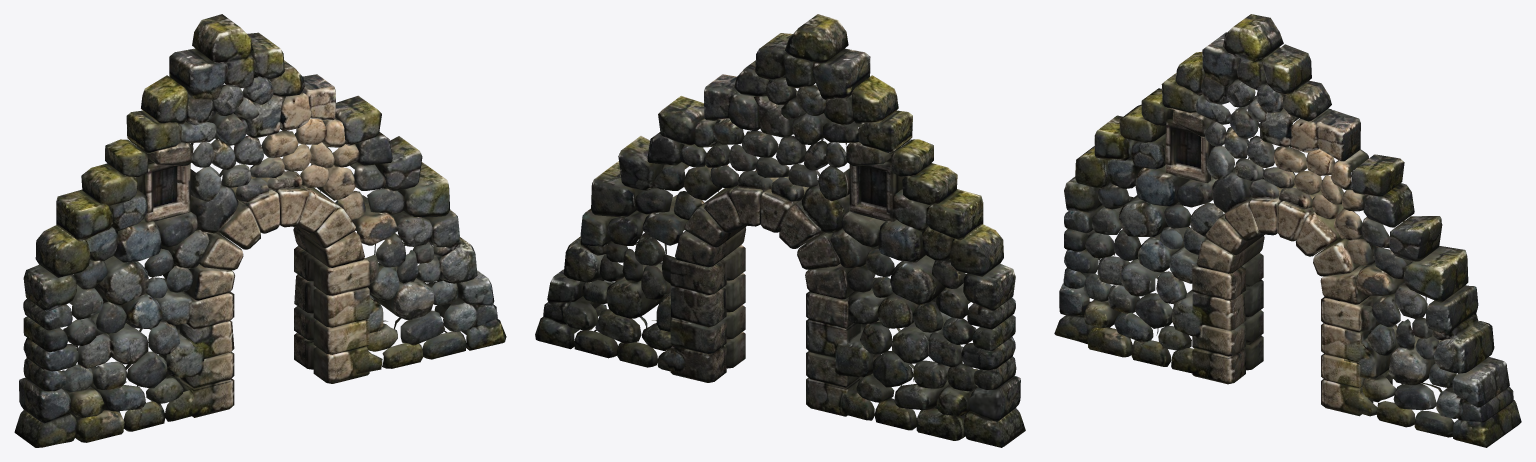
File: act1-a07-3-gable-wall.glb
The picture shows the model from 3 angles, left to right: view 1: azimuth 30°, elevation 25°; view 2: azimuth 150°, elevation 25°; view 3: azimuth 330°, elevation 25°; orthographic projection. The views are drawn at different scales.
Parts seen in each view (by area): view 1: act1-a07-3-gable-wall; view 2: act1-a07-3-gable-wall; view 3: act1-a07-3-gable-wall.
Part boxes in pixels (x1,y1,x2,y2): act1-a07-3-gable-wall: (14, 14, 506, 447); act1-a07-3-gable-wall: (535, 14, 1025, 447); act1-a07-3-gable-wall: (1054, 14, 1521, 447).
Size of the model in its own units: 6.96 by 5.3 by 1.01.
1 material, 1 textured.
